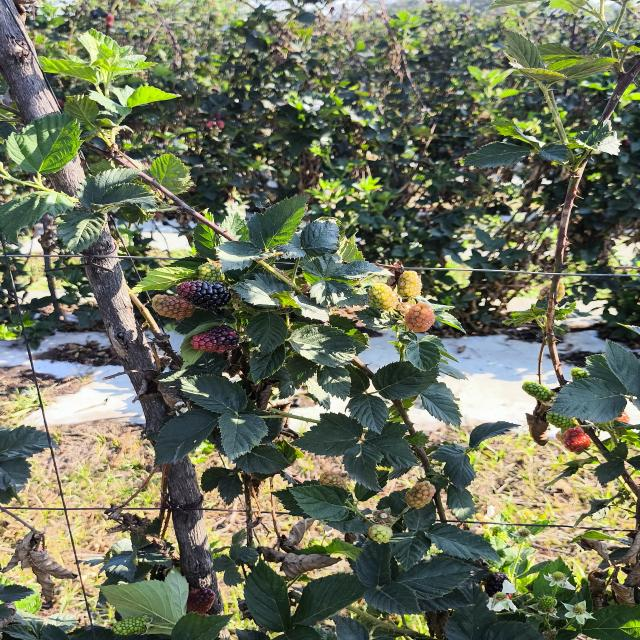marron: (177, 281, 231, 310), (190, 325, 238, 353)
naranja: (152, 294, 194, 319), (404, 302, 435, 332), (404, 480, 435, 509), (186, 588, 215, 615), (563, 427, 591, 453)
verde: (368, 283, 399, 310), (397, 271, 422, 298), (112, 617, 147, 636), (196, 259, 224, 282), (522, 381, 553, 401), (546, 411, 577, 429), (368, 524, 393, 543), (571, 367, 590, 380)
